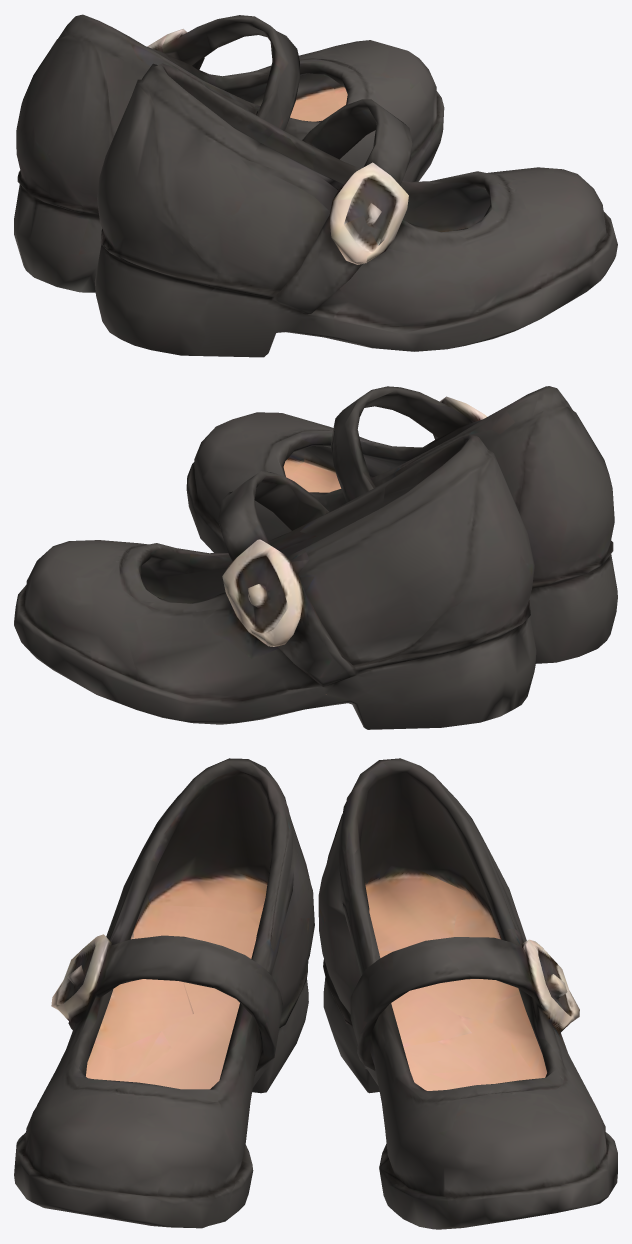
Rendered from shoes-girl.glb.
3 renders of one model, top to bottom at view 1: azimuth 30°, elevation 25°; view 2: azimuth 150°, elevation 25°; view 3: azimuth 270°, elevation 25°, orthographic. The views are drawn at different scales.
Visible parts, largest first — view 1: tripo_node_40dd1afa-3ca4-44d2-8835-917f023f15e3; view 2: tripo_node_40dd1afa-3ca4-44d2-8835-917f023f15e3; view 3: tripo_node_40dd1afa-3ca4-44d2-8835-917f023f15e3.
Part boxes in pixels (x1,y1,x2,y2): tripo_node_40dd1afa-3ca4-44d2-8835-917f023f15e3: (14,14,617,357); tripo_node_40dd1afa-3ca4-44d2-8835-917f023f15e3: (14,386,617,729); tripo_node_40dd1afa-3ca4-44d2-8835-917f023f15e3: (14,758,617,1229).
Size of the model in its own units: 0.213 by 0.12 by 0.2203.
Materials: 1 (1 with a texture image).
